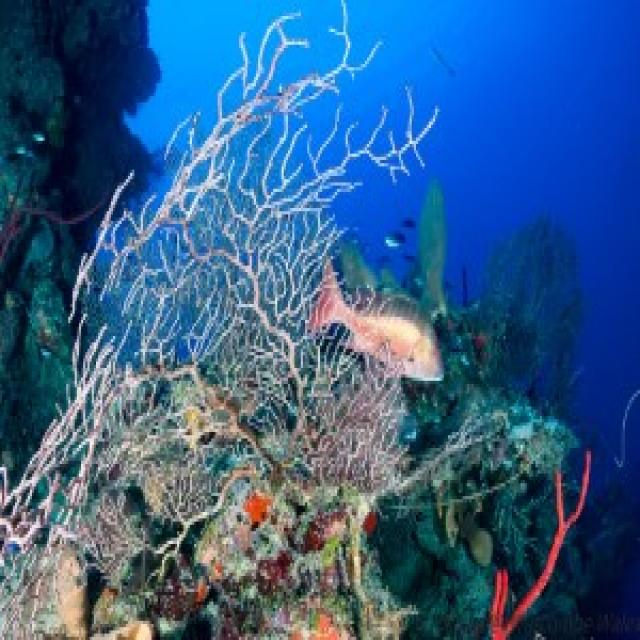Healthy: (1, 17, 417, 638), (411, 404, 573, 516), (304, 334, 406, 494)
